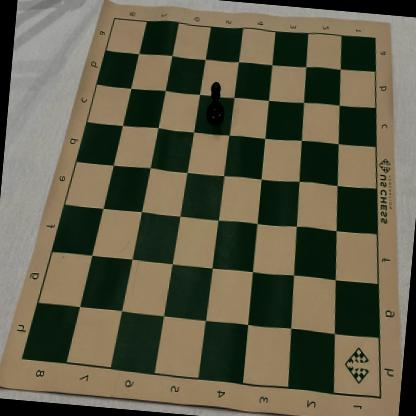black-pawn: (204, 81, 228, 125)
